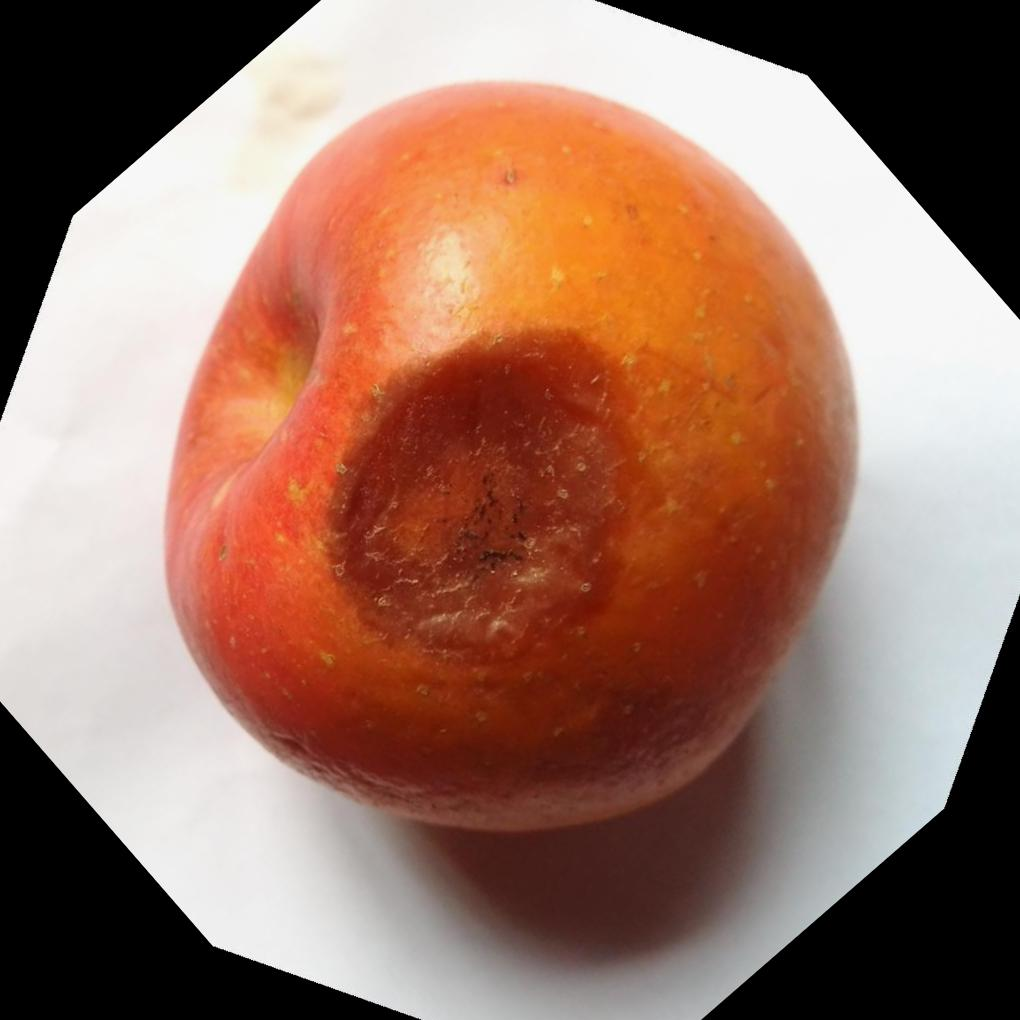FreshOrange: (162, 74, 865, 835)
